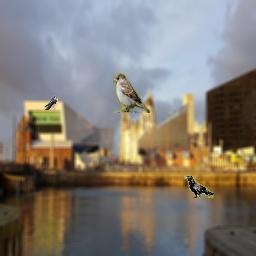Crow: (184, 175, 214, 198)
Sparrow: (113, 73, 150, 113)
Swallow: (44, 95, 58, 110)
